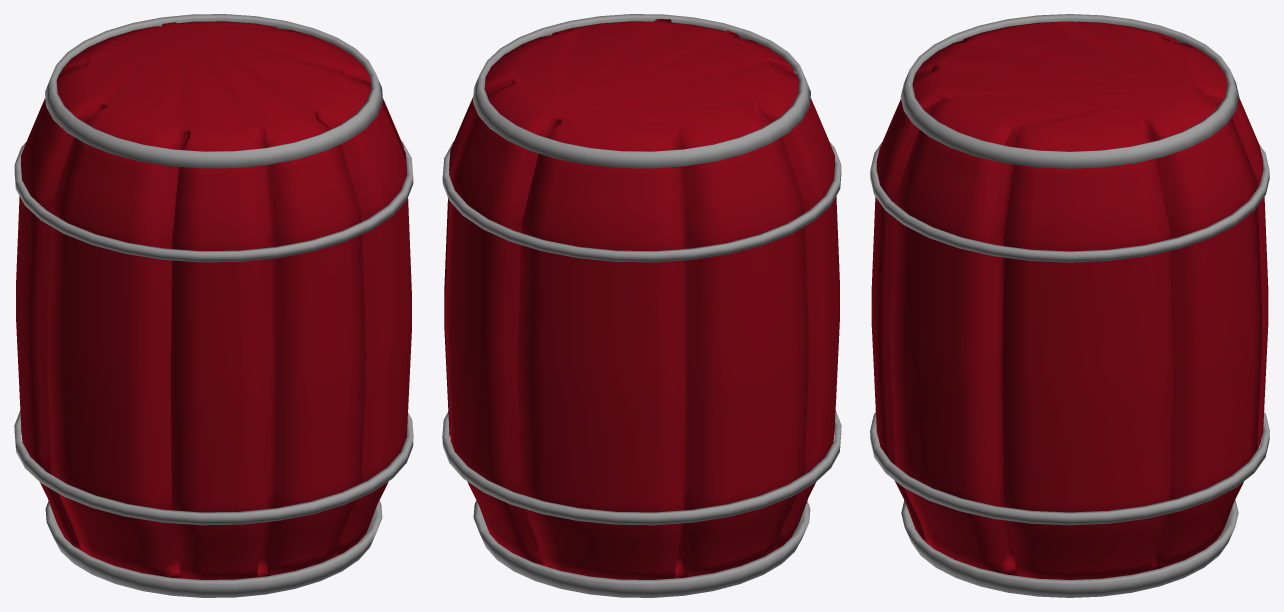
The model's file is FireBarrel.fbx.
The picture shows the model from 3 angles, left to right: view 1: azimuth 30°, elevation 25°; view 2: azimuth 150°, elevation 25°; view 3: azimuth 270°, elevation 25°; orthographic projection.
Visible parts, largest first — view 1: RedBarrel; view 2: RedBarrel; view 3: RedBarrel.
Boxes of the visible parts, x1,y1,x2,y2 form: RedBarrel: (14, 14, 413, 597); RedBarrel: (442, 14, 841, 597); RedBarrel: (870, 14, 1269, 597).
Bounding box in the file's own units: 164 × 205 × 164.
